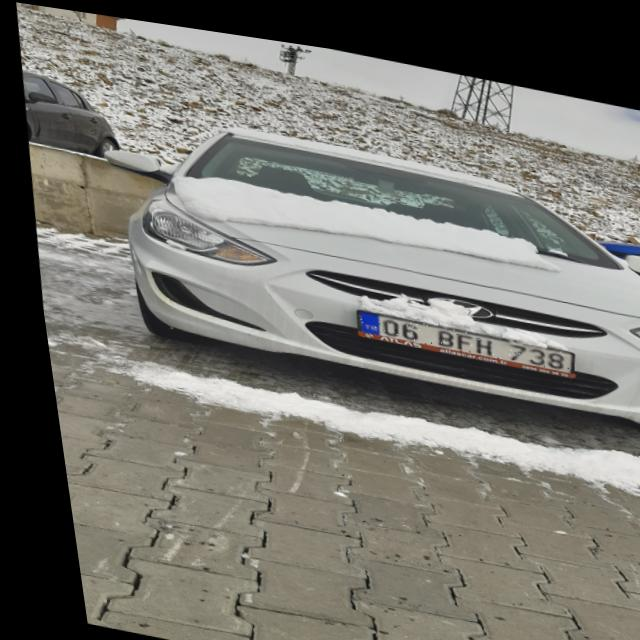license_plate: (349, 300, 568, 358)
